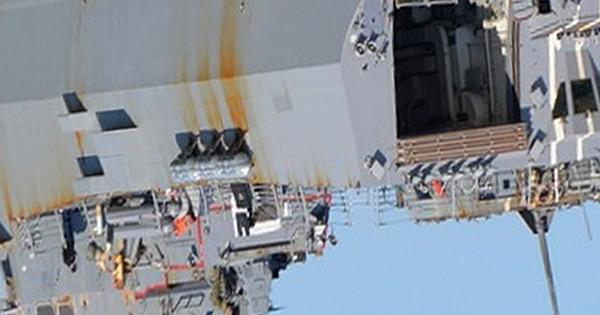rust: (164, 2, 251, 128), (1, 166, 75, 219), (272, 157, 364, 192), (68, 130, 90, 152)
